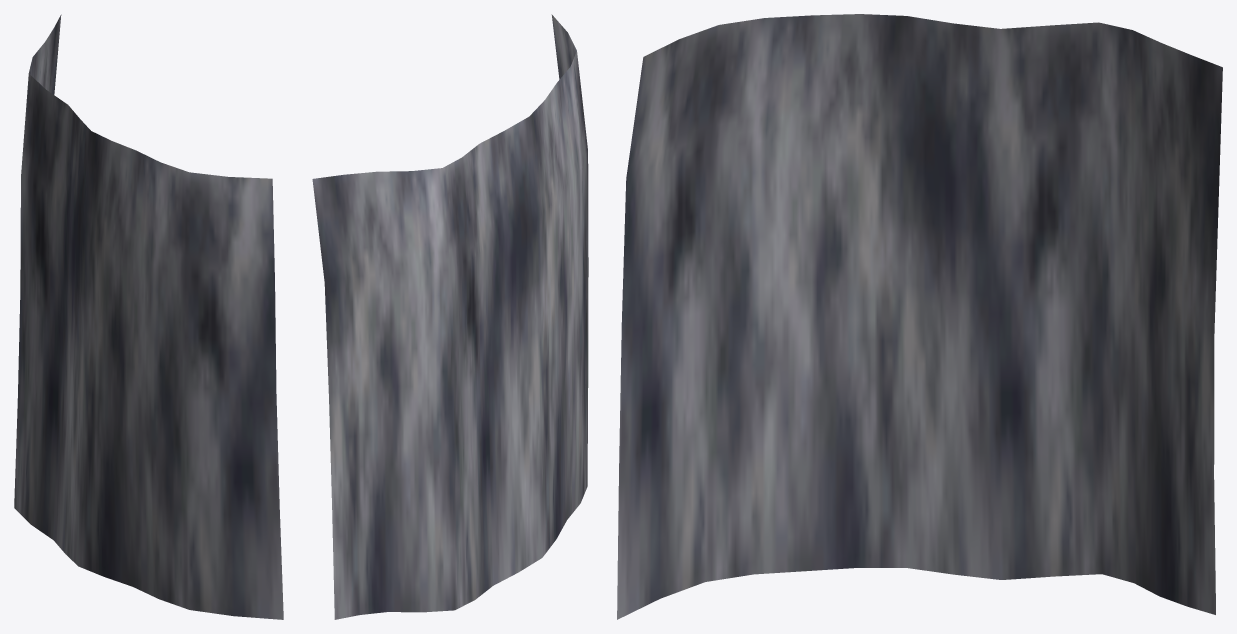
File: SWORDLIGHT20_MESH01.fbx
3 views of the same model, side by side, from view 1: azimuth 30°, elevation 25°; view 2: azimuth 150°, elevation 25°; view 3: azimuth 270°, elevation 25° (orthographic). The views are drawn at different scales.
Parts seen in each view (by area): view 1: SWORDLIGHT20_MESH01; view 2: SWORDLIGHT20_MESH01; view 3: SWORDLIGHT20_MESH01.
Boxes of the visible parts, box(x1,y1,x2,y2) form: SWORDLIGHT20_MESH01: box(14, 14, 283, 619); SWORDLIGHT20_MESH01: box(312, 14, 588, 619); SWORDLIGHT20_MESH01: box(617, 14, 1222, 619).
Bounding box in the file's own units: 46594 × 188132 × 179902.
Materials: 1 (1 with a texture image).
